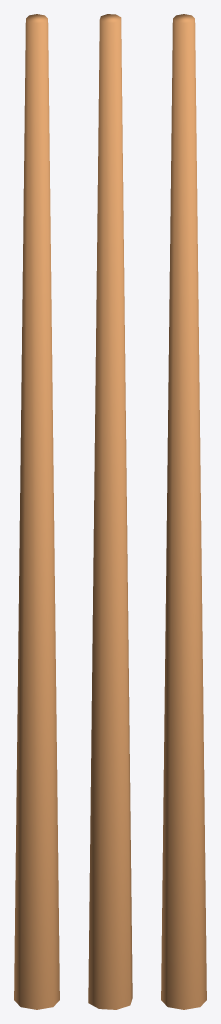
File: TrigoBroto (1).fbx
3 views of the same model, side by side, from view 1: azimuth 90°, elevation 25°; view 2: azimuth 150°, elevation 25°; view 3: azimuth 270°, elevation 25° (orthographic).
Parts seen in each view (by area): view 1: Trigo; view 2: Trigo; view 3: Trigo.
Boxes of the visible parts, x1,y1,x2,y2 form: Trigo: (14, 14, 59, 1009); Trigo: (88, 14, 132, 1009); Trigo: (161, 14, 206, 1009).
Bounding box in the file's own units: 0.9632 × 22.73 × 0.9632.
